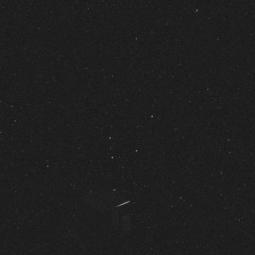soho: (64, 170, 150, 250)
